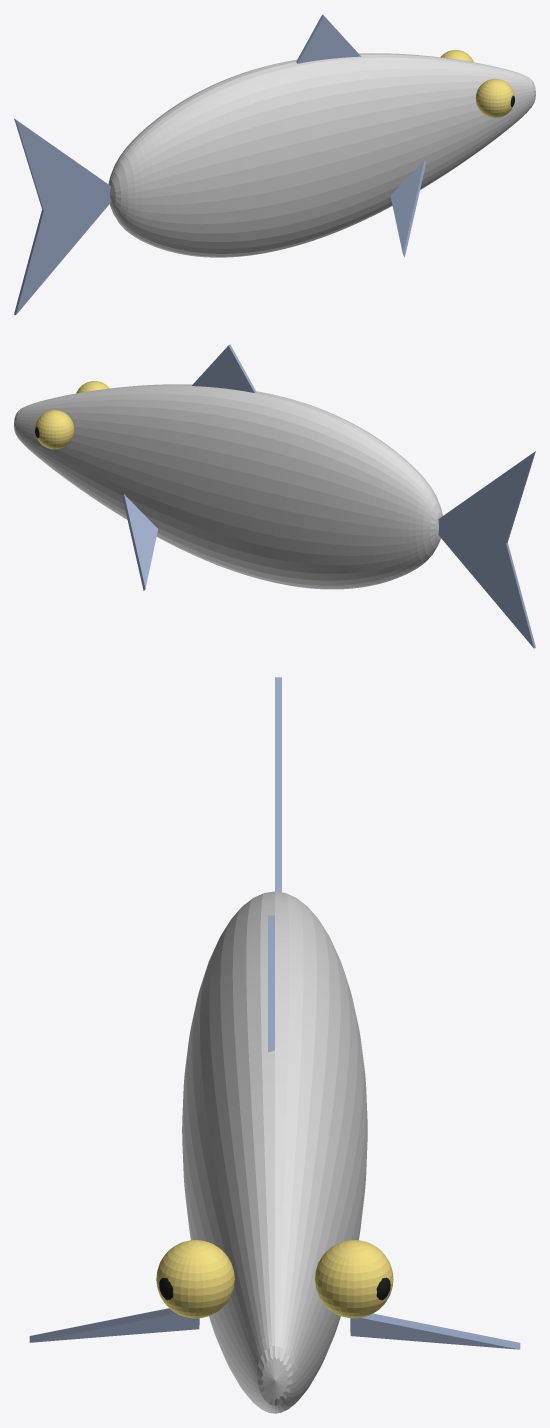
File: fisch_silberbarsch_roh.glb
The picture shows the model from 3 angles, top to bottom: view 1: azimuth 30°, elevation 25°; view 2: azimuth 150°, elevation 25°; view 3: azimuth 270°, elevation 25°; orthographic projection. The views are drawn at different scales.
Visible parts, largest first — view 1: koerper, flosse, flosse.001, flosse.003, Sphere.002; view 2: koerper, flosse, flosse.001, flosse.002, Sphere; view 3: koerper, Sphere, Sphere.002, flosse.002, flosse.003, flosse, flosse.001.
Part boxes in pixels (x1,y1,x2,y2): koerper: [108, 53, 535, 257]; flosse: [14, 118, 110, 315]; flosse.001: [296, 14, 360, 63]; flosse.003: [390, 160, 426, 256]; Sphere.002: [475, 79, 514, 117]; koerper: [14, 384, 442, 589]; flosse: [438, 451, 535, 648]; flosse.001: [192, 344, 256, 392]; flosse.002: [122, 494, 157, 590]; Sphere: [35, 410, 74, 449]; koerper: [182, 891, 367, 1413]; Sphere: [315, 1240, 393, 1318]; Sphere.002: [156, 1240, 234, 1318]; flosse.002: [350, 1313, 520, 1349]; flosse.003: [29, 1308, 199, 1342]; flosse: [275, 677, 281, 892]; flosse.001: [268, 915, 274, 1052].
Bounding box in the file's own units: 0.5121 × 0.2134 × 0.2097.
